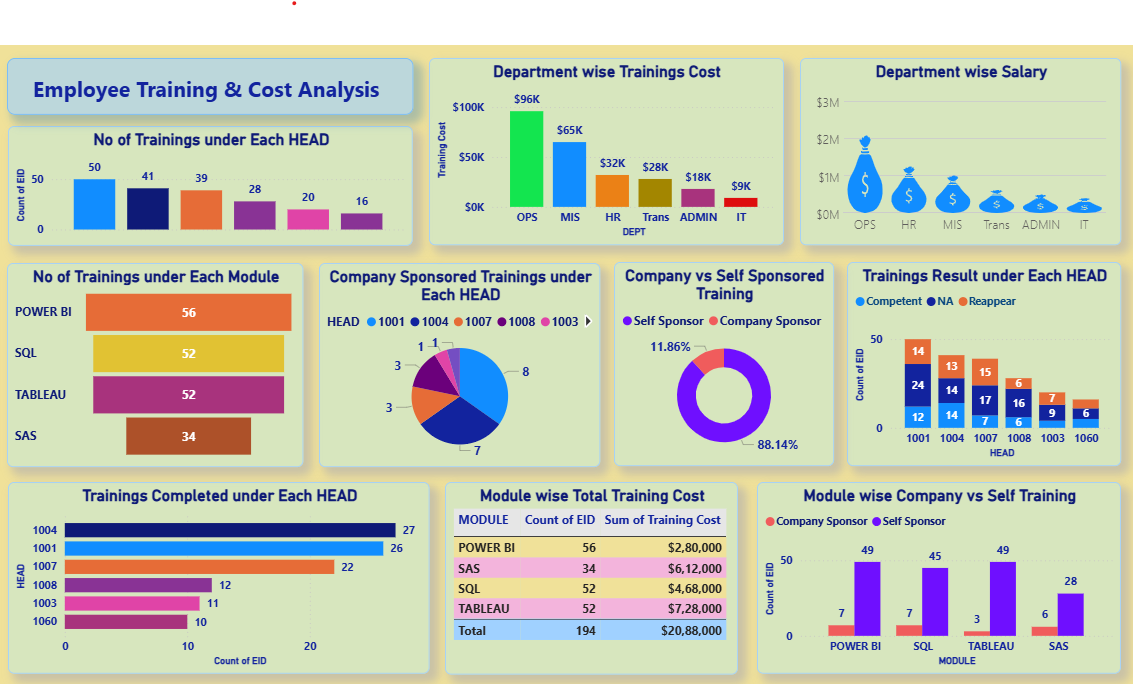

What the dashboard file says about the page in this screenshot:
{"tool":"powerbi","page":{"name":"Employee Training & Cost Analysis ","canvas":[1280,720],"ordinal":0},"visuals":[{"type":"columnChart","title":"No of Trainings under Each HEAD","fields":{"Category":["DEPT.HEAD"],"Y":["CountNonNull(TRAINING.EID)"]},"box":[9.9,90.7,456.4,134.6],"z":0},{"type":"textbox","box":[8.5,14.2,457.8,63.8],"z":2},{"type":"barChart","title":"Trainings Completed under Each HEAD","fields":{"Category":["DEPT.HEAD"],"Y":["CountNonNull(TRAINING.EID)"]},"box":[10.1,492.4,475.5,216.3],"z":3},{"type":"columnChart","title":" Trainings Result under Each HEAD","fields":{"Category":["DEPT.HEAD"],"Series":["TRAINING.Result"],"Y":["CountNonNull(TRAINING.EID)"]},"box":[955.5,244.5,308.7,229.9],"z":4},{"type":"pieChart","title":"Company Sponsored Trainings under Each HEAD","fields":{"Category":["DEPT.HEAD"],"Y":["CountNonNull(TRAINING.EID)"]},"box":[360,245.2,317.5,229.6],"z":5},{"type":"donutChart","title":"Company vs Self Sponsored Training","fields":{"Category":["TRAINING.Training Sponsor"],"Y":["CountNonNull(TRAINING.EID)"]},"box":[693,244.5,247.9,229.9],"z":6},{"type":"funnel","title":"No of Trainings under Each Module","fields":{"Category":["TRAINING.MODULE"],"Y":["CountNonNull(TRAINING.EID)"]},"box":[8.5,245.2,334.5,229.6],"z":7},{"type":"PBI_CV_73744D90_4DC9_4F18_8BA5_EE8FA5C98035","title":"Department wise Salary","fields":{"Category":["DEPT.DEPT"],"Values":["Sum(SAL.SALARY)"]},"box":[902.5,14.2,362,210.7],"z":8},{"type":"columnChart","title":"Department wise Trainings Cost","fields":{"Category":["DEPT.DEPT"],"Y":["Sum(TRAINING.Training Cost)"]},"box":[484.8,14.2,399.5,210.7],"z":9},{"type":"clusteredColumnChart","title":"Module wise Company vs Self Training","fields":{"Category":["TRAINING.MODULE"],"Series":["TRAINING.Training Sponsor"],"Y":["CountNonNull(TRAINING.EID)"]},"box":[854.1,492.4,410.1,216.3],"z":10},{"type":"tableEx","title":"Module wise Total Training Cost","fields":{"Values":["TRAINING.MODULE","TRAINING.EID","Sum(TRAINING.Training Cost)"]},"box":[502.5,492.4,330.1,217.5],"z":11}]}

Visuals, with their boxes on the page's 1280x720 design canvas (x1, y1, x2, y2). These are canvas units, not pixel positions in the 1133x684 screenshot, which may show the page scaled, cropped or inside an application window:
"No of Trainings under Each HEAD" columnChart: [x1=10, y1=91, x2=466, y2=225]
textbox: [x1=8, y1=14, x2=466, y2=78]
"Trainings Completed under Each HEAD" barChart: [x1=10, y1=492, x2=486, y2=709]
" Trainings Result under Each HEAD" columnChart: [x1=956, y1=244, x2=1264, y2=474]
"Company Sponsored Trainings under Each HEAD" pieChart: [x1=360, y1=245, x2=678, y2=475]
"Company vs Self Sponsored Training" donutChart: [x1=693, y1=244, x2=941, y2=474]
"No of Trainings under Each Module" funnel: [x1=8, y1=245, x2=343, y2=475]
"Department wise Salary" PBI_CV_73744D90_4DC9_4F18_8BA5_EE8FA5C98035: [x1=902, y1=14, x2=1264, y2=225]
"Department wise Trainings Cost" columnChart: [x1=485, y1=14, x2=884, y2=225]
"Module wise Company vs Self Training" clusteredColumnChart: [x1=854, y1=492, x2=1264, y2=709]
"Module wise Total Training Cost" tableEx: [x1=502, y1=492, x2=833, y2=710]
